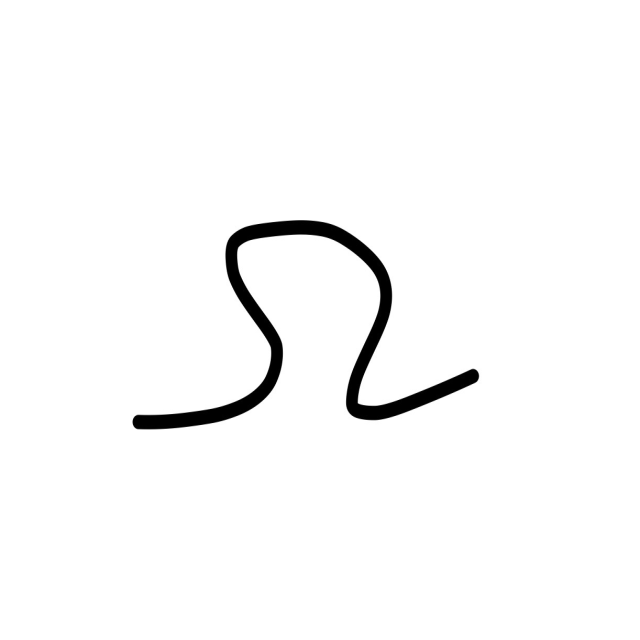ohms: (78, 131, 553, 494)
